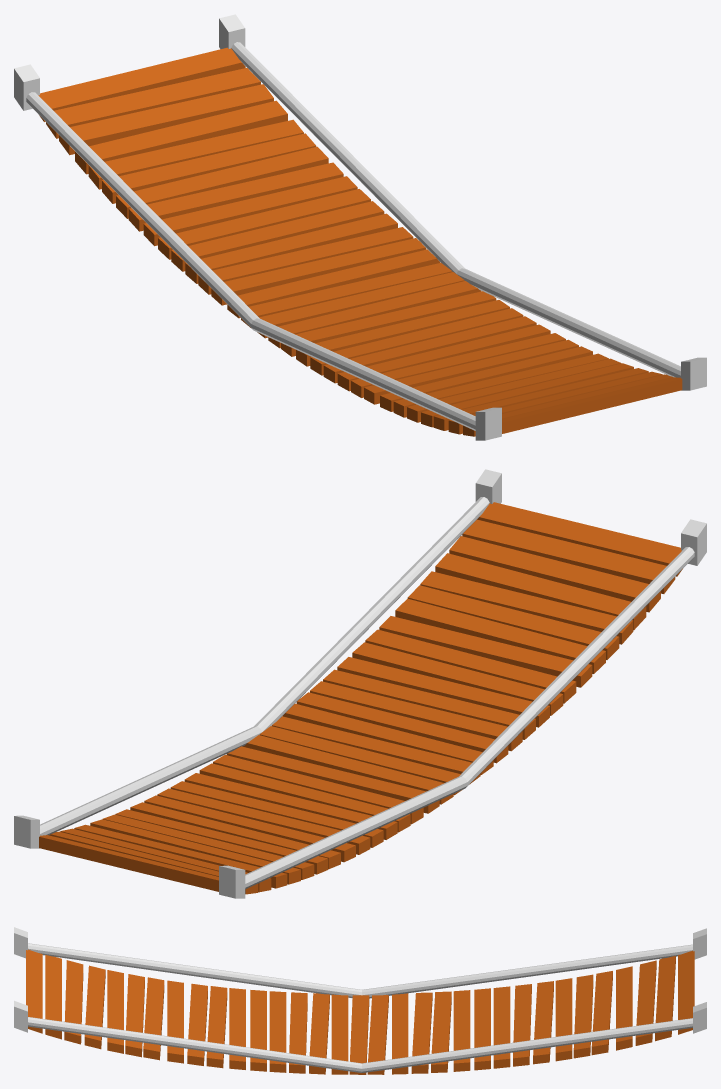
The model's file is tree_bridge_02.fbx.
The picture shows the model from 3 angles, top to bottom: view 1: azimuth 30°, elevation 25°; view 2: azimuth 150°, elevation 25°; view 3: azimuth 270°, elevation 25°; orthographic projection. The views are drawn at different scales.
Parts seen in each view (by area): view 1: Cylinder.001; view 2: Cylinder.001; view 3: Cylinder.001.
Part boxes in pixels (x1,y1,x2,y2): Cylinder.001: (14,14,706,440); Cylinder.001: (14,469,706,898); Cylinder.001: (14,927,706,1074).
Bounding box in the file's own units: 178 × 74.72 × 654.
